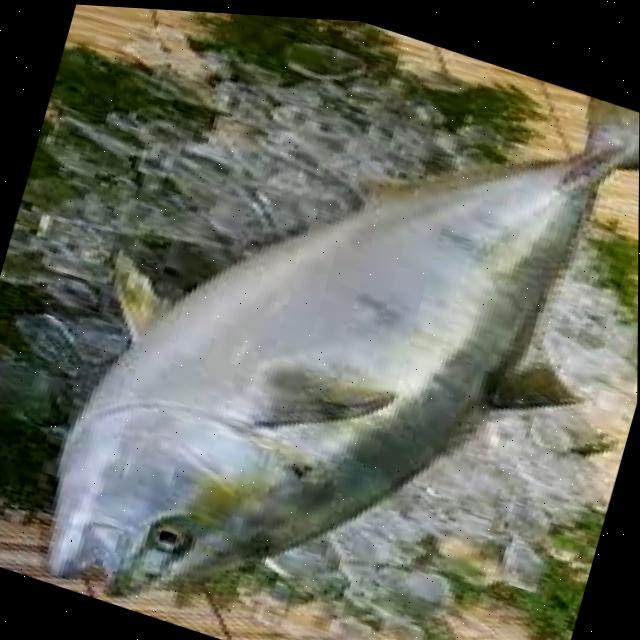Kingfish: (4, 0, 640, 640)
